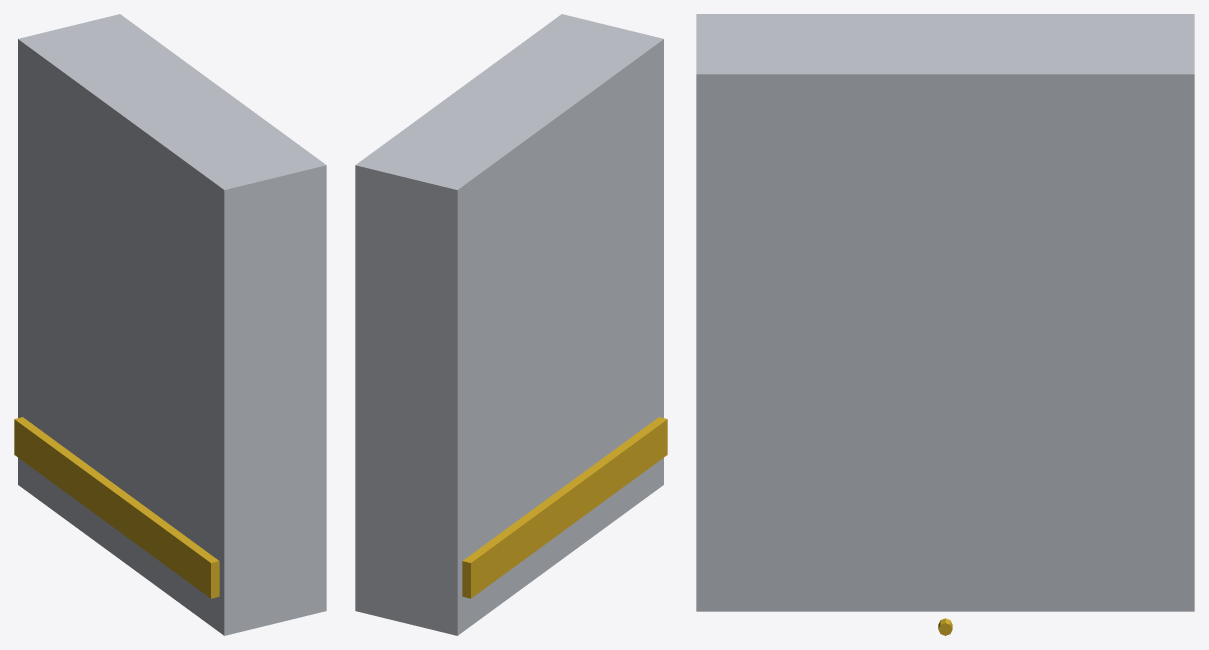
File: blast_door.obj
3 views of the same model, side by side, from view 1: azimuth 30°, elevation 25°; view 2: azimuth 150°, elevation 25°; view 3: azimuth 270°, elevation 25° (orthographic). The views are drawn at different scales.
Parts seen in each view (by area): view 1: blast_door; view 2: blast_door; view 3: blast_door.
Part boxes in pixels (x1=…): blast_door: x1=14, y1=14, x2=326, y2=635; blast_door: x1=355, y1=14, x2=667, y2=635; blast_door: x1=696, y1=14, x2=1194, y2=635.
Size of the model in its own units: 0.26 by 1.09 by 0.84.
